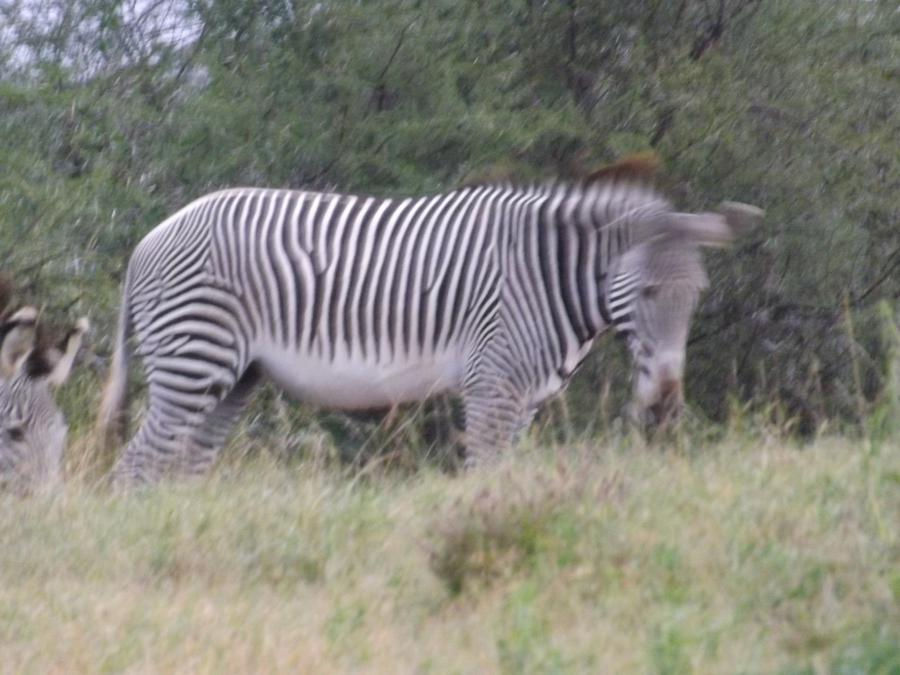zebra_grevys: (130, 185, 533, 405)
